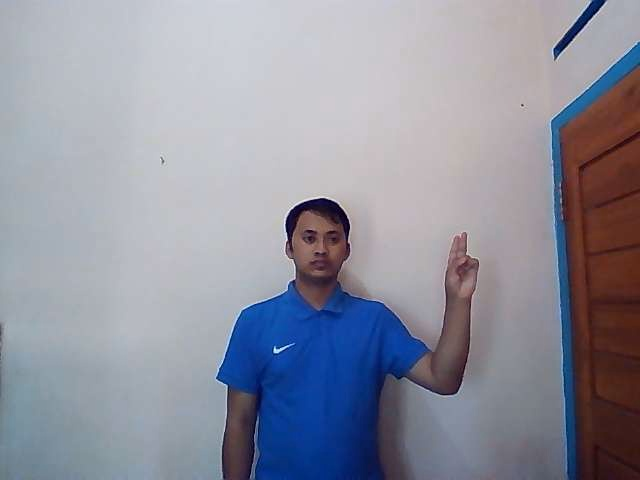U: (443, 232, 481, 302)
